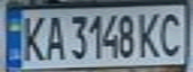1: (87, 11, 106, 58)
3: (66, 11, 87, 61)
4: (103, 10, 121, 58)
8: (115, 10, 139, 58)
A: (42, 11, 66, 62)
C: (157, 8, 190, 57)
K: (18, 11, 48, 63), (136, 9, 163, 58)
